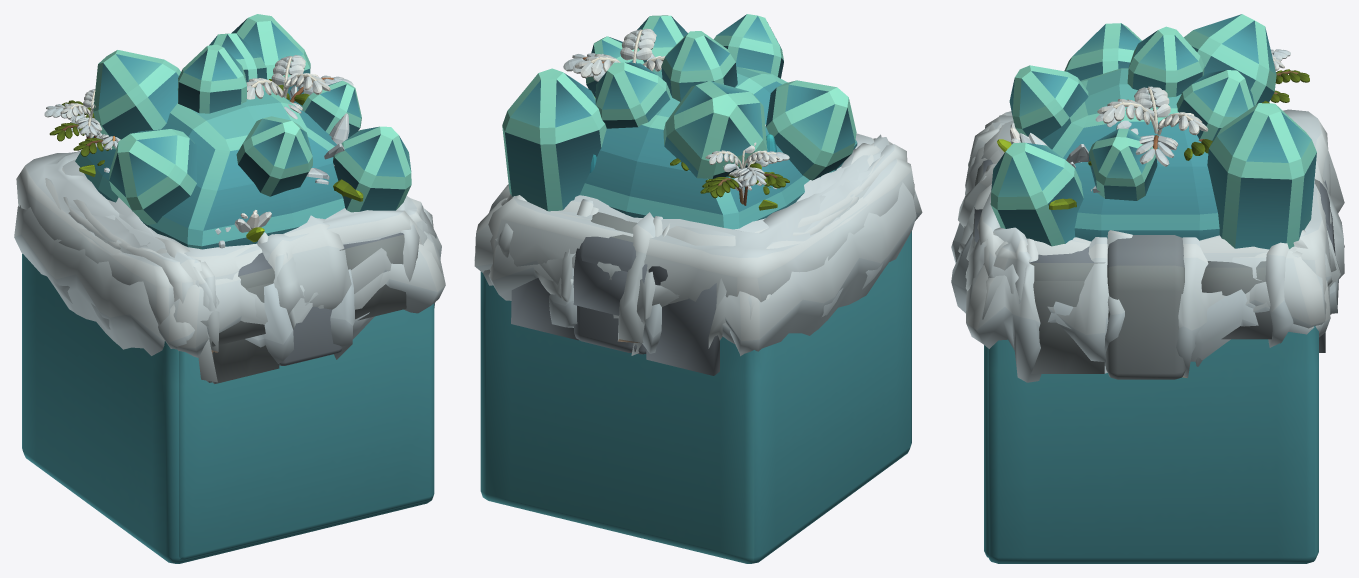
The model's file is Winter_Cubesv2.fbx.
3 views of the same model, side by side, from view 1: azimuth 30°, elevation 25°; view 2: azimuth 150°, elevation 25°; view 3: azimuth 270°, elevation 25° (orthographic). The views are drawn at different scales.
Visible parts, largest first — view 1: Winter_Cube_03 .003, Winter4.002, Winter9.002, Spring_Cube5.005, Spring_Cube11.004, Spring_Cube10.005, Spring_Cube12.004, Spring_Cube4.005, Spring_Cube1.003, Spring_Cube6.005, Road6.004, Winter_Cube_05 .002 (+8 smaller); view 2: Winter9.002, Winter_Cube_03 .003, Spring_Cube11.004, Spring_Cube5.005, Road5.004, Road.004, Spring_Cube10.005, Winter_Cube_11.002, Cube_Base.018, Spring_Cube3.006, Winter_Cube_05 .002, Road6.004 (+4 smaller); view 3: Winter9.002, Winter_Cube_03 .003, Road.004, Spring_Cube2.006, Spring_Cube4.005, Spring_Cube11.004, Winter_Cube_05 .002, Spring_Cube1.003, Springroad4.003, Spring_Cube10.005, Spring_Cube3.006, Spring_Cube12.004 (+7 smaller).
Boxes of the visible parts, left/top/right/bottom form: Winter_Cube_03 .003: left=75, top=14, right=411, bottom=249; Winter4.002: left=179, top=304, right=433, bottom=560; Winter9.002: left=22, top=254, right=434, bottom=563; Spring_Cube5.005: left=14, top=178, right=217, bottom=382; Spring_Cube11.004: left=16, top=151, right=208, bottom=326; Spring_Cube10.005: left=58, top=150, right=428, bottom=353; Spring_Cube12.004: left=156, top=196, right=436, bottom=309; Spring_Cube4.005: left=173, top=207, right=445, bottom=357; Spring_Cube1.003: left=52, top=269, right=374, bottom=363; Spring_Cube6.005: left=63, top=197, right=416, bottom=329; Road6.004: left=212, top=259, right=279, bottom=383; Winter_Cube_05 .002: left=246, top=55, right=353, bottom=119; Winter9.002: left=480, top=231, right=911, bottom=563; Winter_Cube_03 .003: left=502, top=14, right=857, bottom=229; Spring_Cube11.004: left=488, top=137, right=914, bottom=304; Spring_Cube5.005: left=488, top=134, right=916, bottom=356; Road5.004: left=646, top=266, right=719, bottom=375; Road.004: left=574, top=212, right=637, bottom=352; Spring_Cube10.005: left=542, top=141, right=892, bottom=297; Winter_Cube_11.002: left=705, top=142, right=789, bottom=205; Cube_Base.018: left=573, top=248, right=647, bottom=321; Spring_Cube3.006: left=474, top=139, right=922, bottom=319; Winter_Cube_05 .002: left=563, top=28, right=665, bottom=97; Road6.004: left=511, top=278, right=578, bottom=340; Winter9.002: left=989, top=326, right=1318, bottom=563; Winter_Cube_03 .003: left=990, top=14, right=1316, bottom=249; Road.004: left=1106, top=179, right=1331, bottom=379; Spring_Cube2.006: left=965, top=149, right=1340, bottom=377; Spring_Cube4.005: left=965, top=146, right=1340, bottom=382; Spring_Cube11.004: left=994, top=109, right=1332, bottom=347; Winter_Cube_05 .002: left=1088, top=86, right=1212, bottom=166; Spring_Cube1.003: left=951, top=222, right=1344, bottom=361; Springroad4.003: left=1031, top=246, right=1104, bottom=373; Spring_Cube10.005: left=958, top=124, right=1330, bottom=293; Spring_Cube3.006: left=982, top=120, right=1336, bottom=328; Spring_Cube12.004: left=958, top=120, right=1296, bottom=303.
Size of the model in its own units: 121 by 159 by 122.
